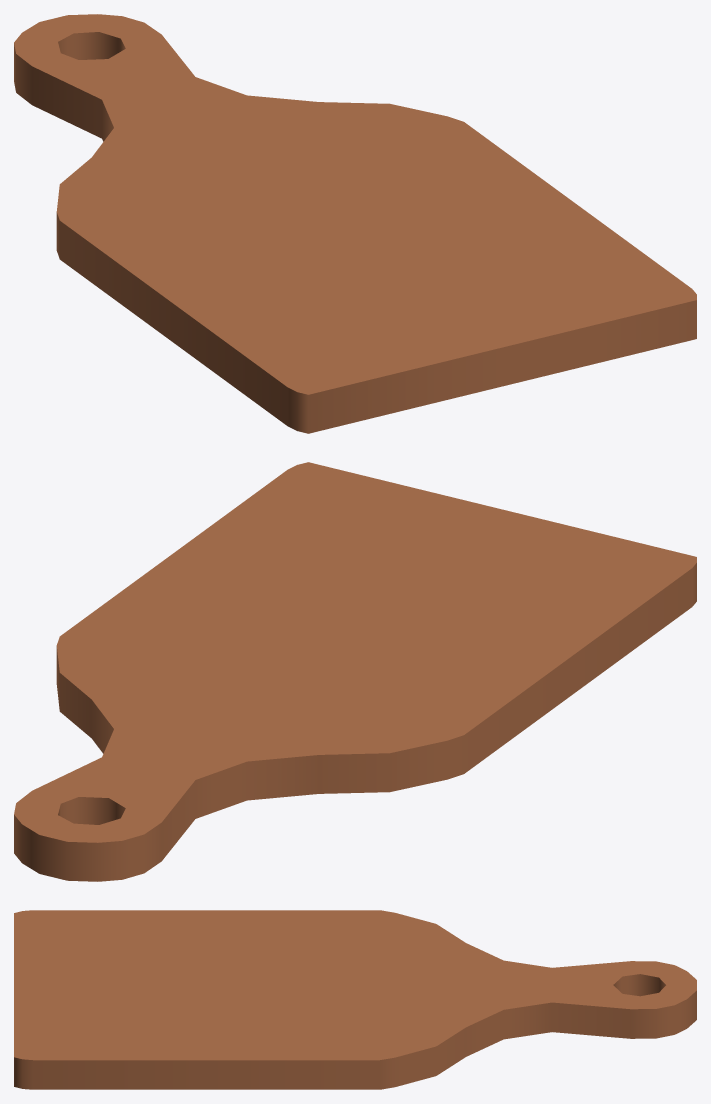
File: board3.fbx
3 views of the same model, one above another, from view 1: azimuth 30°, elevation 25°; view 2: azimuth 150°, elevation 25°; view 3: azimuth 270°, elevation 25° (orthographic). The views are drawn at different scales.
Visible parts, largest first — view 1: board3; view 2: board3; view 3: board3.
Boxes of the visible parts, x1,y1,x2,y2 form: board3: [14, 14, 696, 433]; board3: [14, 462, 696, 881]; board3: [14, 910, 696, 1089].
Bounding box in the file's own units: 4.74 × 9.13 × 0.4371.
